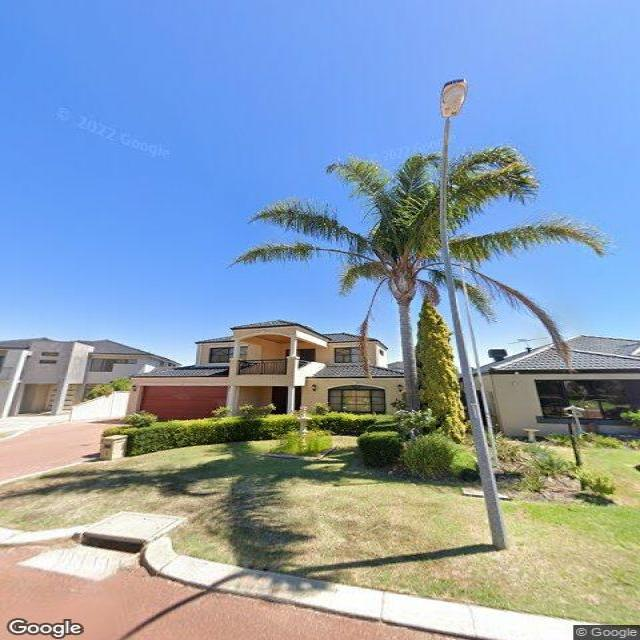steel-pole: (439, 228, 510, 552)
streetlight: (438, 78, 469, 236)
